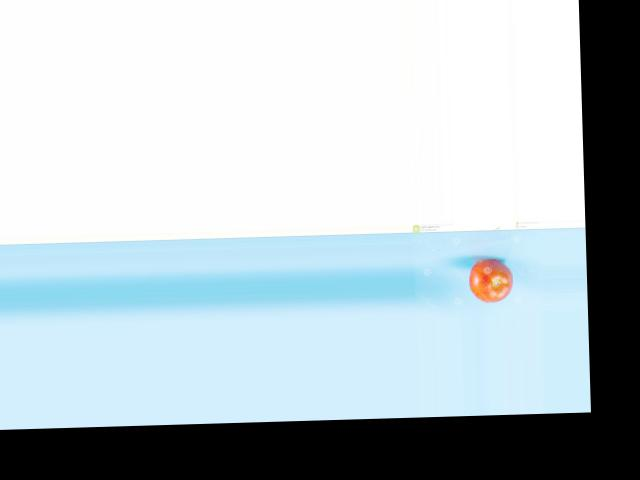tomato: (468, 259, 514, 302)
